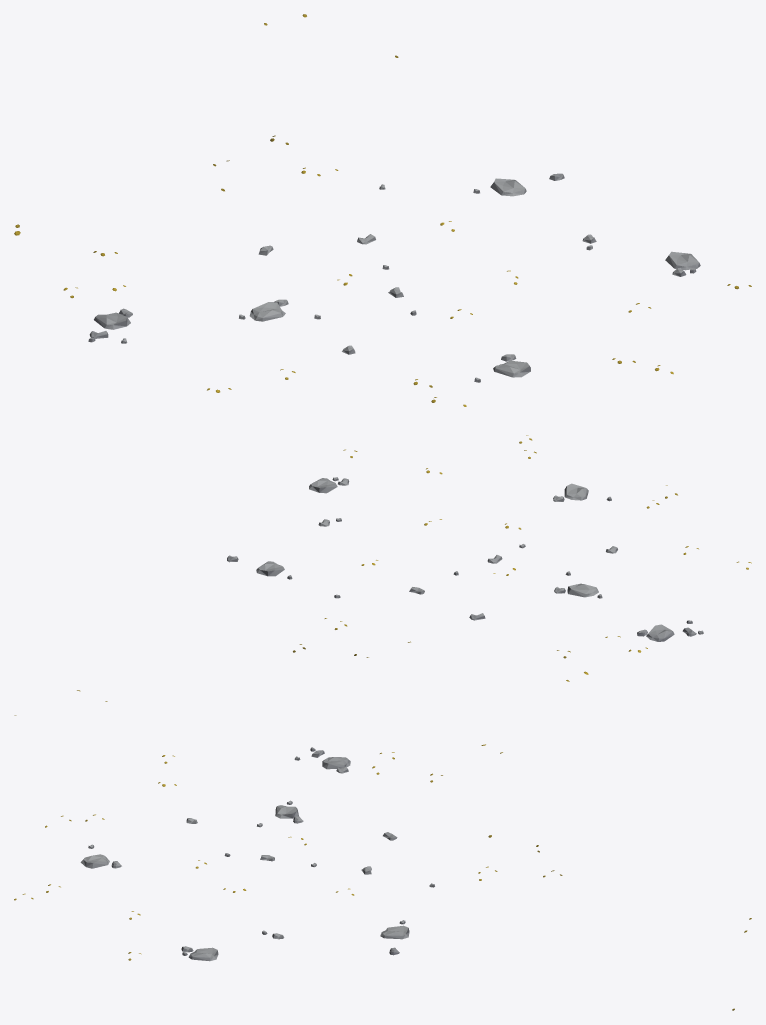
File: Ground_04.FBX
3 views of the same model, one above another, from view 1: azimuth 30°, elevation 25°; view 2: azimuth 150°, elevation 25°; view 3: azimuth 270°, elevation 25° (orthographic). The views are drawn at different scales.
Parts seen in each view (by area): view 1: Ground_04; view 2: Ground_04; view 3: Ground_04.
Part boxes in pixels (box(x1,y1,x2,y2)): Ground_04: box(14, 14, 751, 406); Ground_04: box(14, 435, 751, 715); Ground_04: box(14, 744, 751, 1010).
Bounding box in the file's own units: 18.98 × 2.23 × 26.41.
